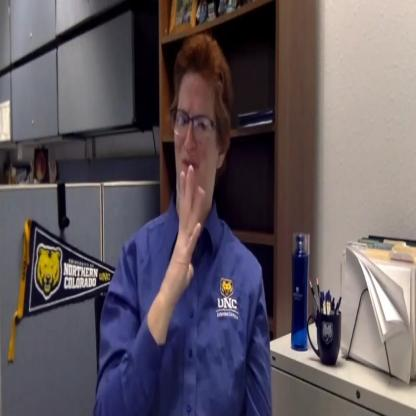Talk: (162, 36, 236, 312)
